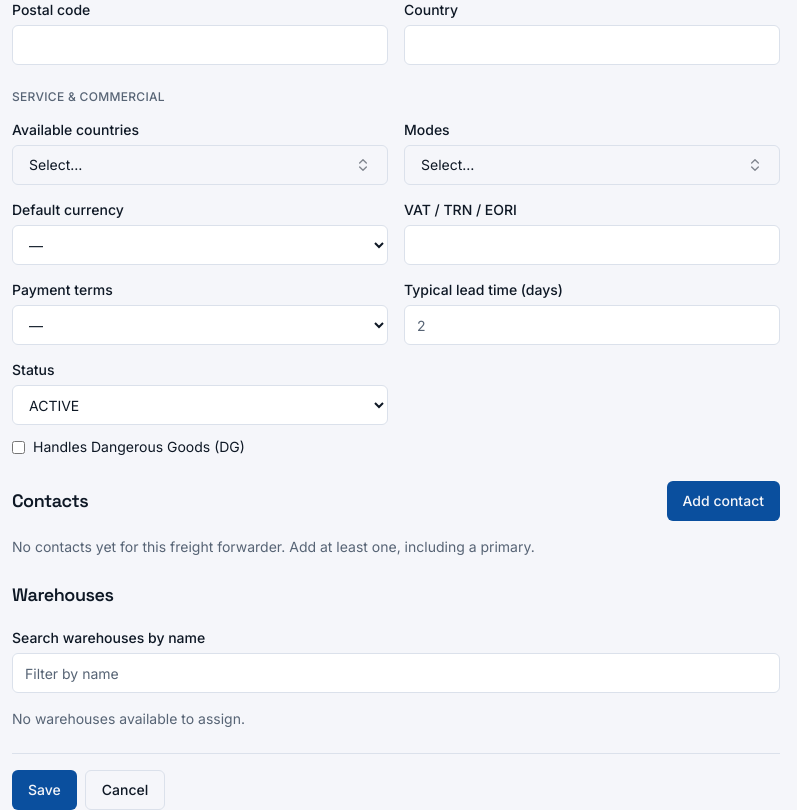
it: FreightForwarderFormPage (create) › blocks submit and shows an error when required fields are missing
(page scrolled)
Click the button "Save": (44, 790) [12,770,77,809]
(page scrolled)
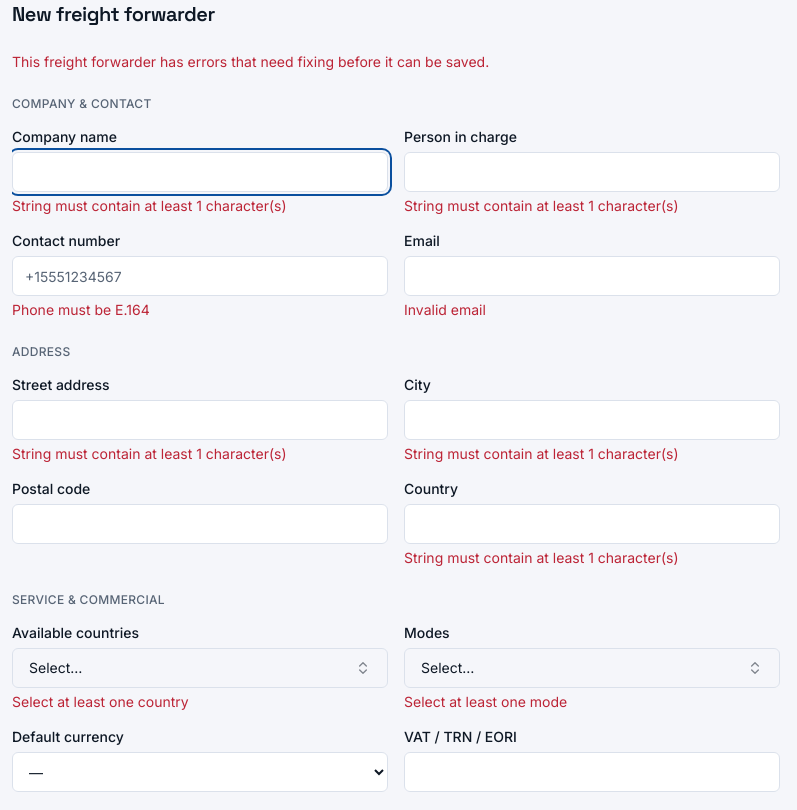
Check: the text "Select at least one mode" is shown, box [404,693,567,710]
